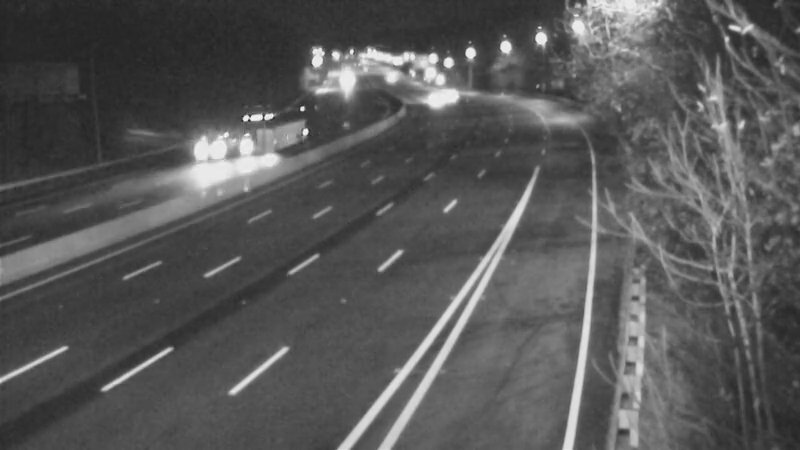vehicle: (364, 52, 414, 102), (424, 69, 474, 119), (404, 77, 454, 127), (185, 121, 235, 171), (225, 117, 275, 167)
